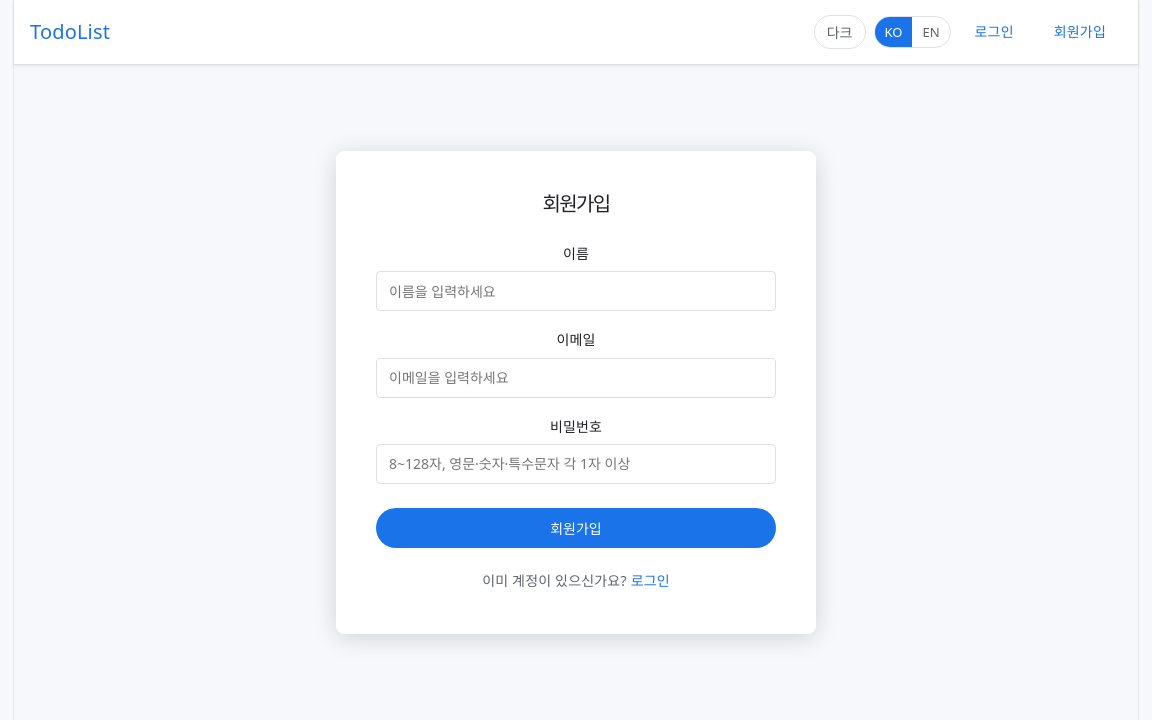
Test: RegisterPage › 이메일 blur 시 형식 오류 메시지를 표시한다
The width and height of the screenshot is (1152, 720).
Type "invalid-email" into the field labelled "이메일" at (576, 378), box [376,358,776,398]
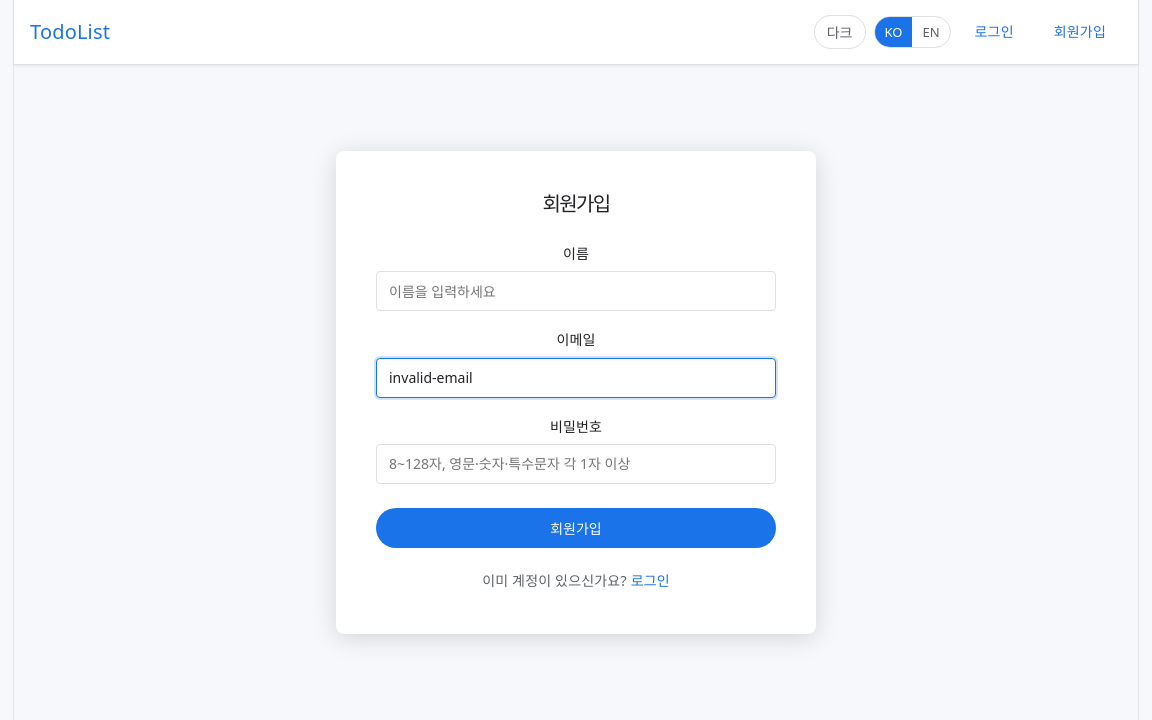
Press Tab
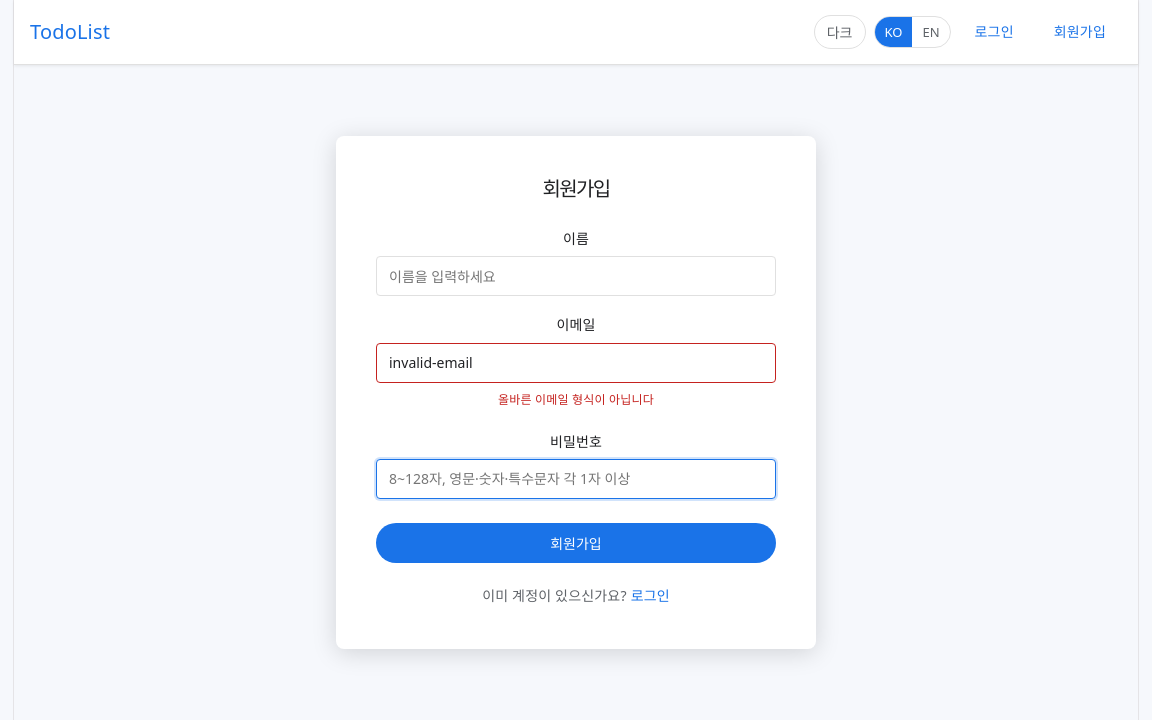
Check: the text "올바른 이메일 형식이 아닙니다" is shown, box [498,390,654,408]
